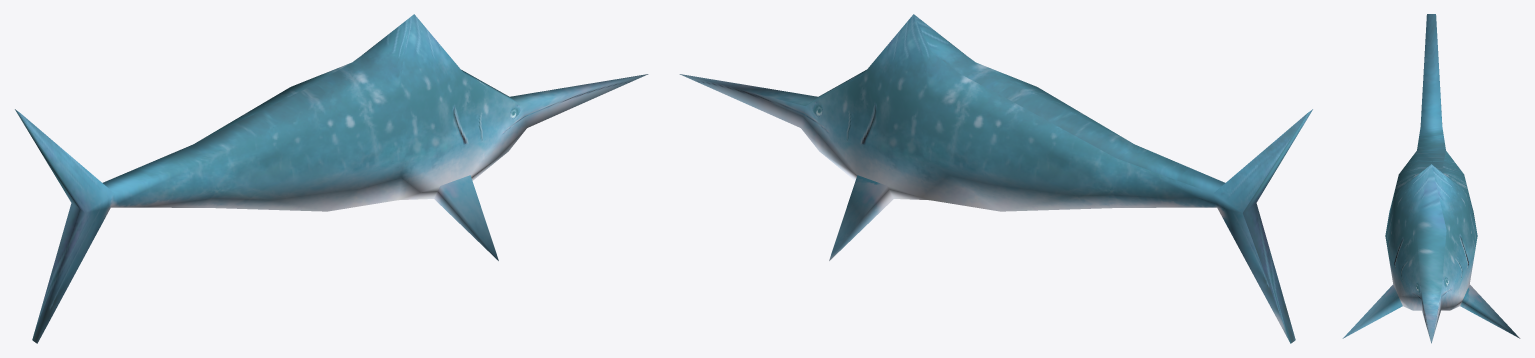
File: marlin_01.fbx
The picture shows the model from 3 angles, left to right: view 1: azimuth 30°, elevation 25°; view 2: azimuth 150°, elevation 25°; view 3: azimuth 270°, elevation 25°; orthographic projection. The views are drawn at different scales.
Visible parts, largest first — view 1: marlin_01; view 2: marlin_01; view 3: marlin_01.
Part boxes in pixels (bbox=[...]): marlin_01: bbox=[15, 14, 648, 343]; marlin_01: bbox=[679, 14, 1312, 343]; marlin_01: bbox=[1342, 14, 1520, 343].
Bounding box in the file's own units: 71.74 × 25.54 × 22.65.
1 material, 1 textured.
